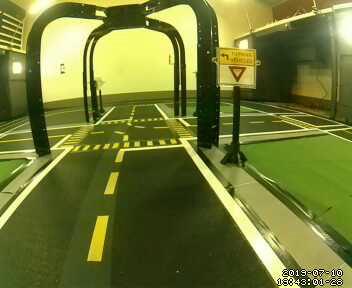Turn Yield: (215, 46, 256, 90)
